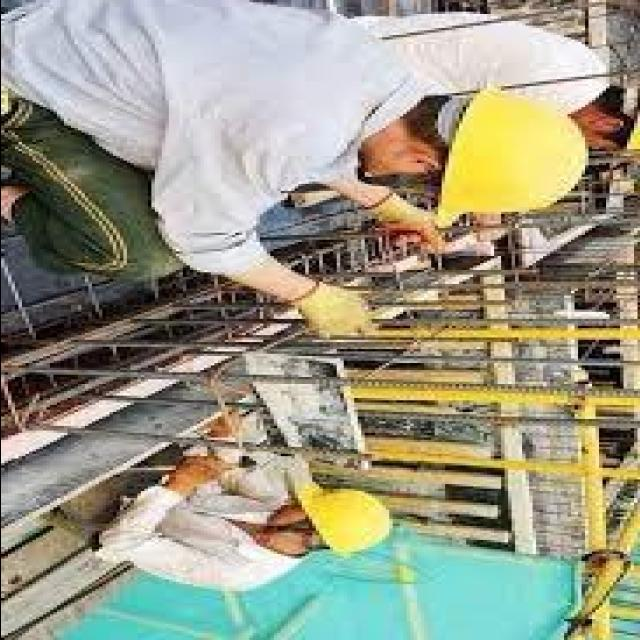helmet: (447, 80, 599, 240), (296, 477, 398, 562)
